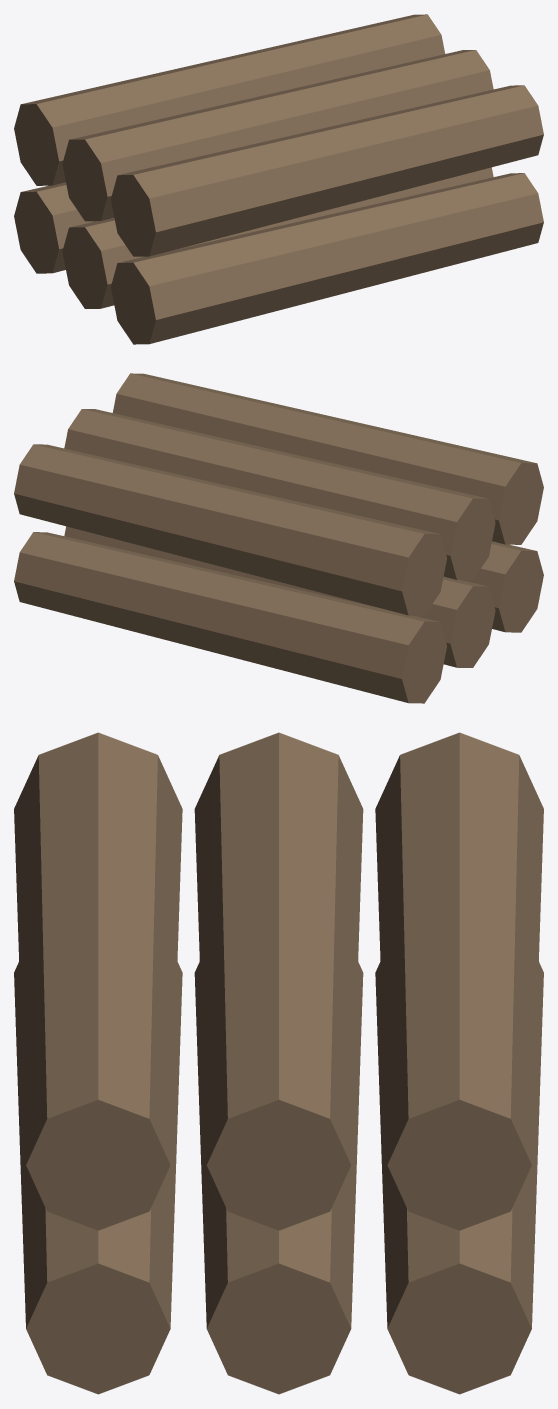
Rendered from woodpile.glb.
3 views of the same model, one above another, from view 1: azimuth 30°, elevation 25°; view 2: azimuth 150°, elevation 25°; view 3: azimuth 270°, elevation 25° (orthographic). The views are drawn at different scales.
Parts seen in each view (by area): view 1: woodpile; view 2: woodpile; view 3: woodpile.
Boxes of the visible parts, x1,y1,x2,y2 form: woodpile: (14, 14, 543, 344); woodpile: (14, 373, 543, 703); woodpile: (14, 732, 543, 1394).
Bounding box in the file's own units: 1.4 × 0.58 × 0.88.
